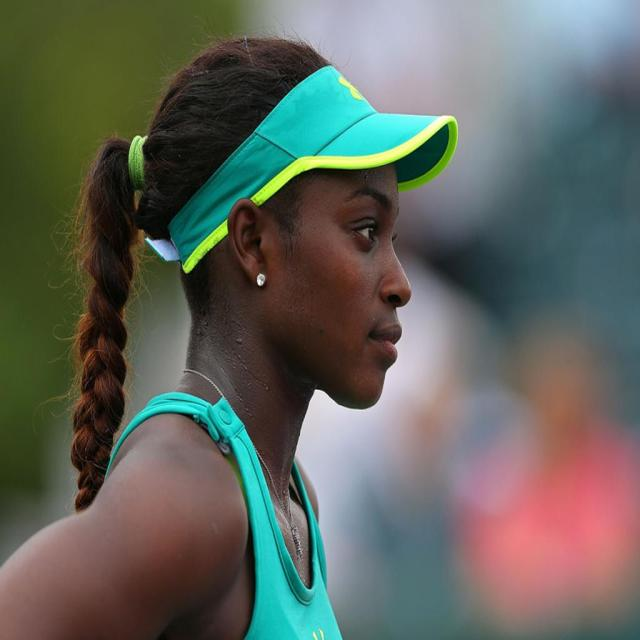Face: (295, 153, 419, 418)
